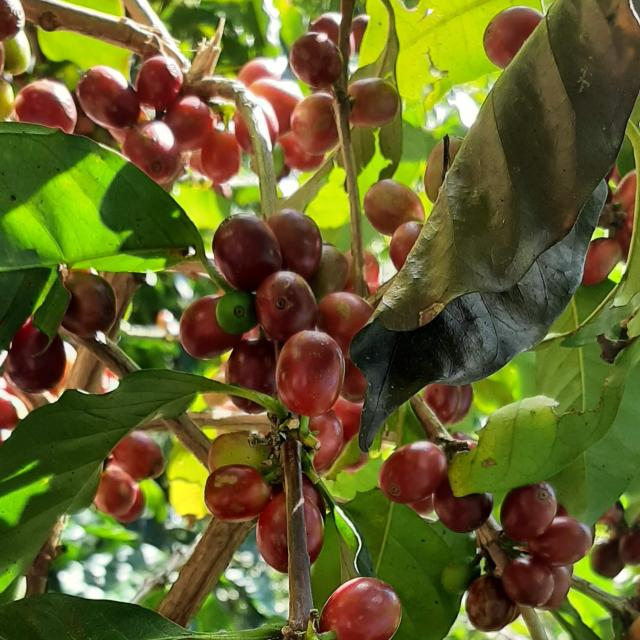green: (216, 290, 258, 335)
red: (276, 330, 345, 417), (212, 214, 282, 291), (319, 578, 402, 640), (255, 270, 318, 343), (3, 319, 65, 393), (379, 441, 448, 505), (75, 65, 139, 128), (179, 295, 241, 359), (267, 208, 322, 280), (121, 120, 181, 184), (484, 5, 544, 68), (204, 466, 270, 523), (318, 292, 374, 357), (364, 179, 426, 235), (13, 78, 76, 133), (501, 483, 558, 543), (528, 517, 594, 567), (434, 479, 493, 534), (466, 575, 521, 633), (290, 91, 338, 155), (289, 31, 342, 88), (94, 465, 145, 524), (225, 339, 276, 396), (134, 54, 183, 111), (503, 557, 555, 609), (111, 430, 164, 481), (164, 95, 213, 150), (348, 77, 400, 127), (256, 493, 288, 574), (201, 129, 241, 183), (310, 12, 341, 43), (351, 13, 370, 51), (231, 396, 264, 414)
yellow: (208, 432, 268, 473)
